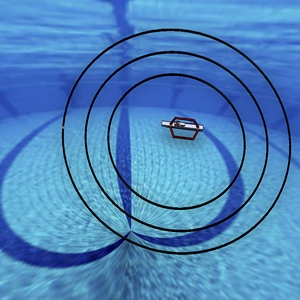circle: (53, 20, 300, 260)
submarine: (154, 105, 212, 149)
